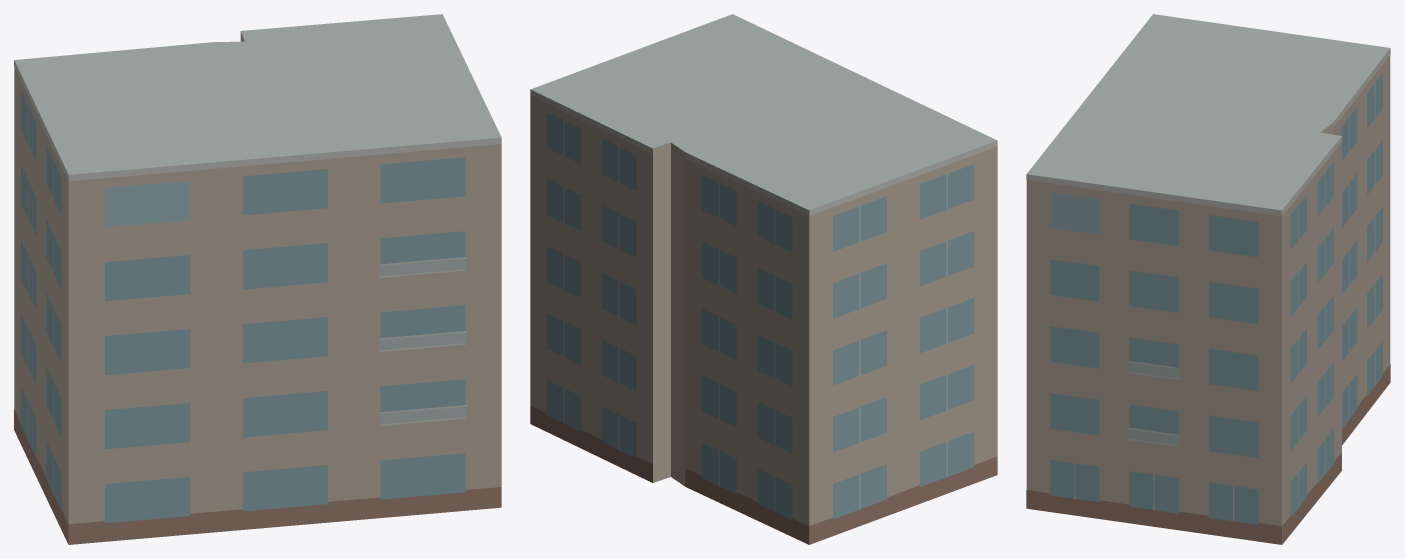
Rendered from survey-upis-32542383.glb.
The picture shows the model from 3 angles, left to right: view 1: azimuth 30°, elevation 25°; view 2: azimuth 150°, elevation 25°; view 3: azimuth 270°, elevation 25°; orthographic projection. The views are drawn at different scales.
Visible parts, largest first — view 1: survey-upis-32542383.tmp; view 2: survey-upis-32542383.tmp; view 3: survey-upis-32542383.tmp.
Boxes of the visible parts, x1,y1,x2,y2 form: survey-upis-32542383.tmp: [14, 14, 501, 544]; survey-upis-32542383.tmp: [530, 14, 997, 544]; survey-upis-32542383.tmp: [1026, 14, 1390, 544].
Bounding box in the file's own units: 17.64 × 14 × 13.82.
